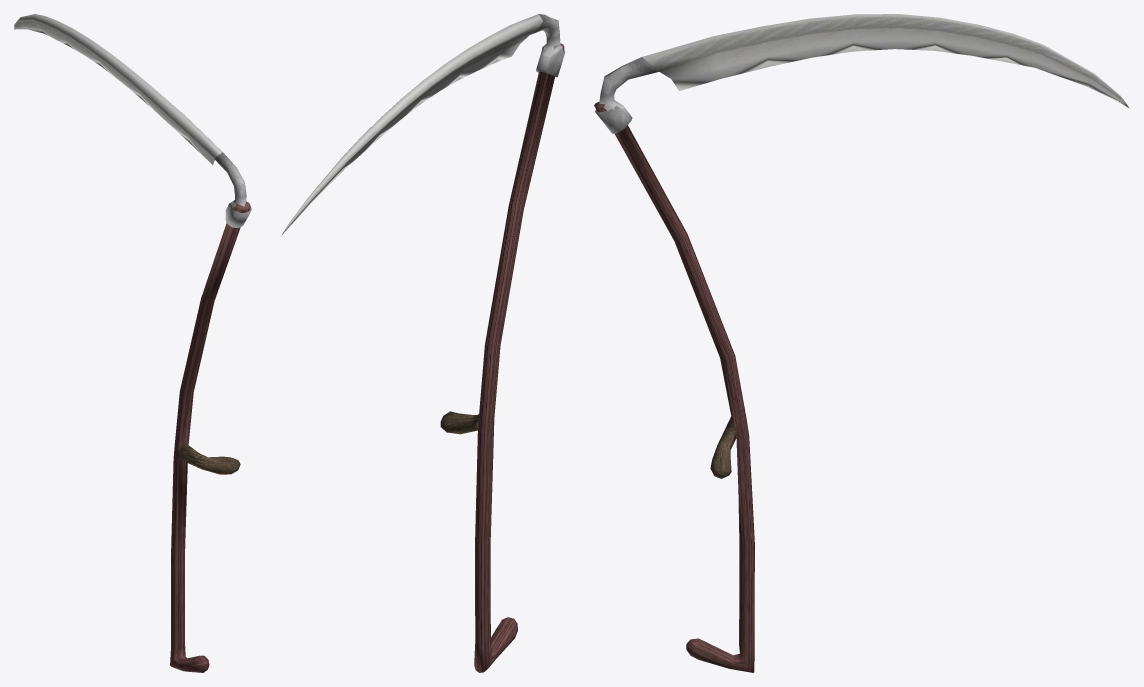
Rendered from weapons_myscythe.glb.
3 renders of one model, left to right at view 1: azimuth 30°, elevation 25°; view 2: azimuth 150°, elevation 25°; view 3: azimuth 270°, elevation 25°, orthographic. The views are drawn at different scales.
Parts seen in each view (by area): view 1: myscythe; view 2: myscythe; view 3: myscythe.
Part boxes in pixels (<box>): myscythe: <box>14,14,251,672</box>; myscythe: <box>281,14,565,672</box>; myscythe: <box>594,14,1129,672</box>.
Size of the model in its own units: 0.195 by 1.52 by 1.14.
1 material, 1 textured.
